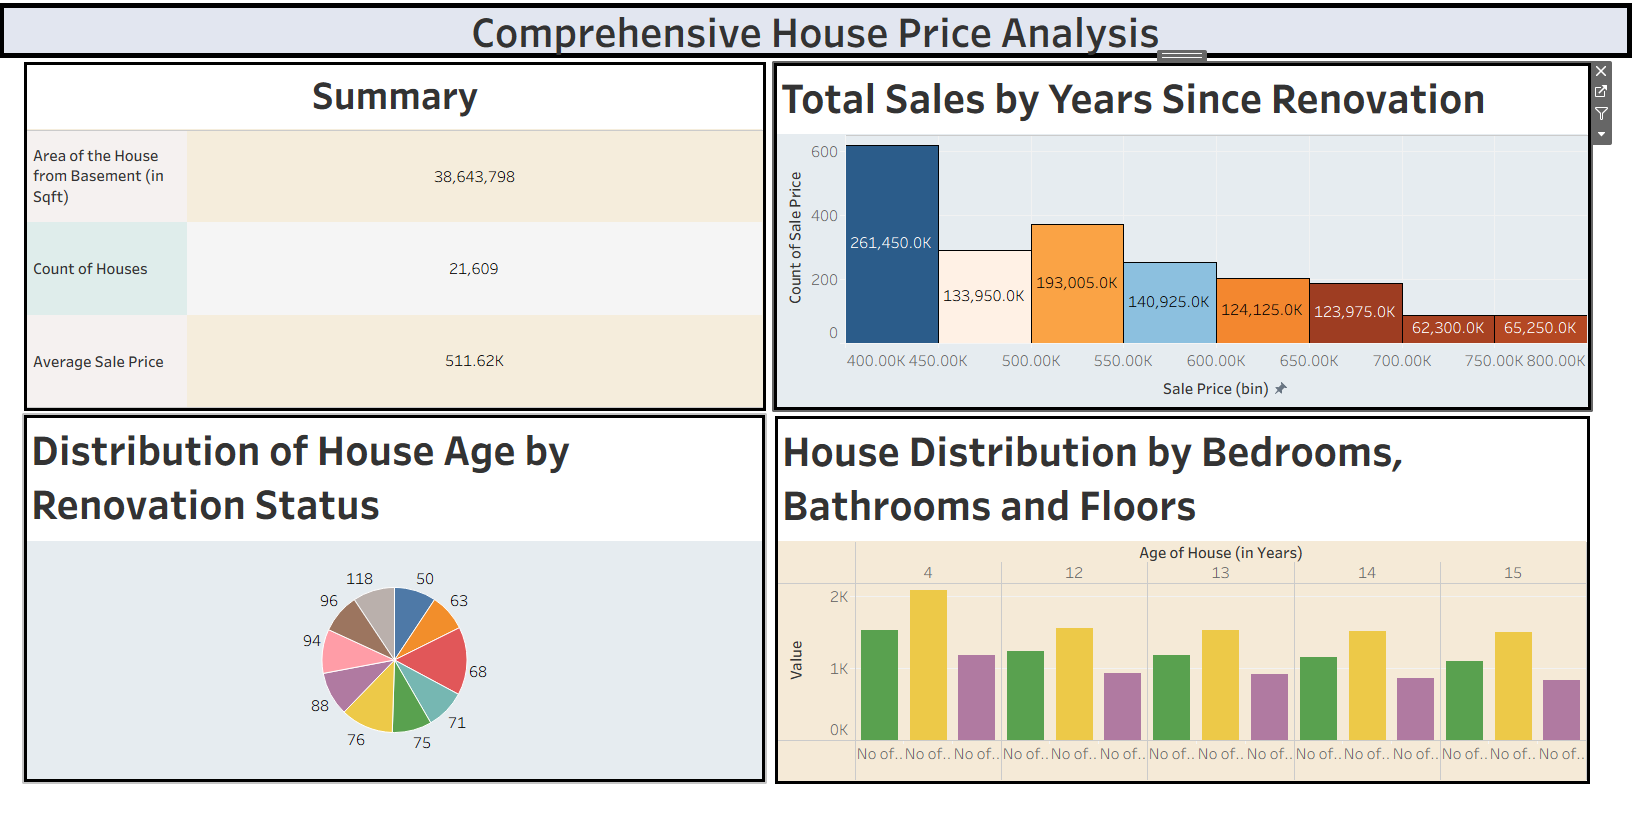

The page's visual inventory and layout, read from the dashboard file:
{"tool":"tableau","page":{"name":"Dashboard 1","canvas":[1000,1000],"units":"permille","ordinal":0},"visuals":[{"type":"title","box":[4.8,9.4,990.3,74]},{"type":"worksheet","title":"Summary","mark":"Automatic","box":[22.2,83.4,447.9,410.1]},{"type":"worksheet","title":"total sales by years since renovation","mark":"Bar","rows":["Sale_Price"],"cols":["Sale Price (bin)"],"box":[475,84.6,492.9,407.8]},{"type":"worksheet","title":"House age by renovation status","mark":"Pie","box":[22.2,498.2,447.2,431.3]},{"type":"worksheet","title":"House Distribution by bedrooms , bathrooms and floors","mark":"Bar","cols":["Age of House (in Years)"],"box":[475.6,499.4,491.7,432.4]}]}

Visuals, with their boxes on the dashboard's canvas, which has no fixed pixel size, in thousandths of its width and height (x1, y1, x2, y2). These are canvas units, not pixel positions in the 1643x816 screenshot, which may show the page scaled, cropped or inside an application window:
title: (5,9,995,83)
"Summary" worksheet: (22,83,470,494)
"total sales by years since renovation" worksheet (Bar marks): (475,85,968,492)
"House age by renovation status" worksheet (Pie marks): (22,498,469,930)
"House Distribution by bedrooms , bathrooms and floors" worksheet (Bar marks): (476,499,967,932)
